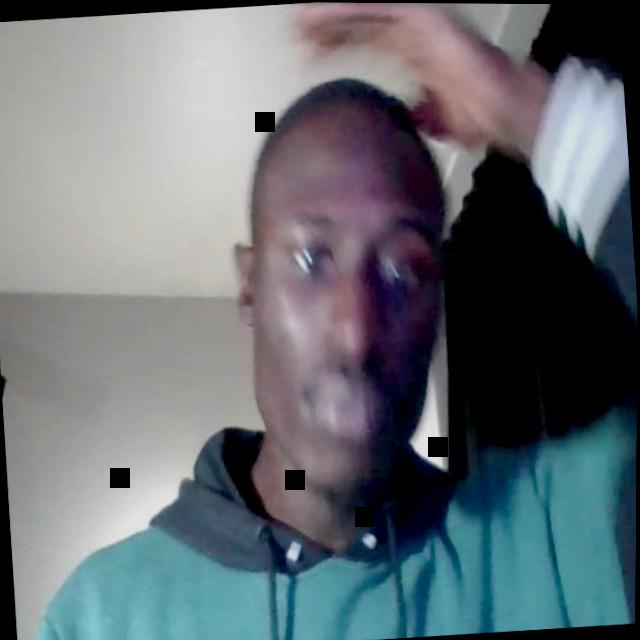NO-Mask: (236, 150, 464, 514)
